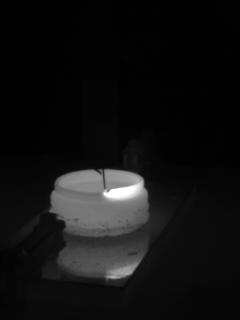tip_wire_left: (85, 164, 107, 192)
tip_wire_right: (104, 161, 117, 193)
